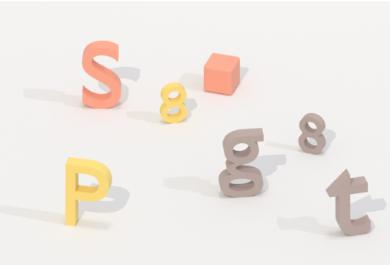0-KhoiVuong: (199, 48, 246, 99)
8: (295, 109, 330, 158), (157, 79, 189, 127)
P: (60, 152, 115, 229)
S: (78, 36, 123, 112)
g: (215, 125, 270, 203)
t: (321, 166, 377, 241)
